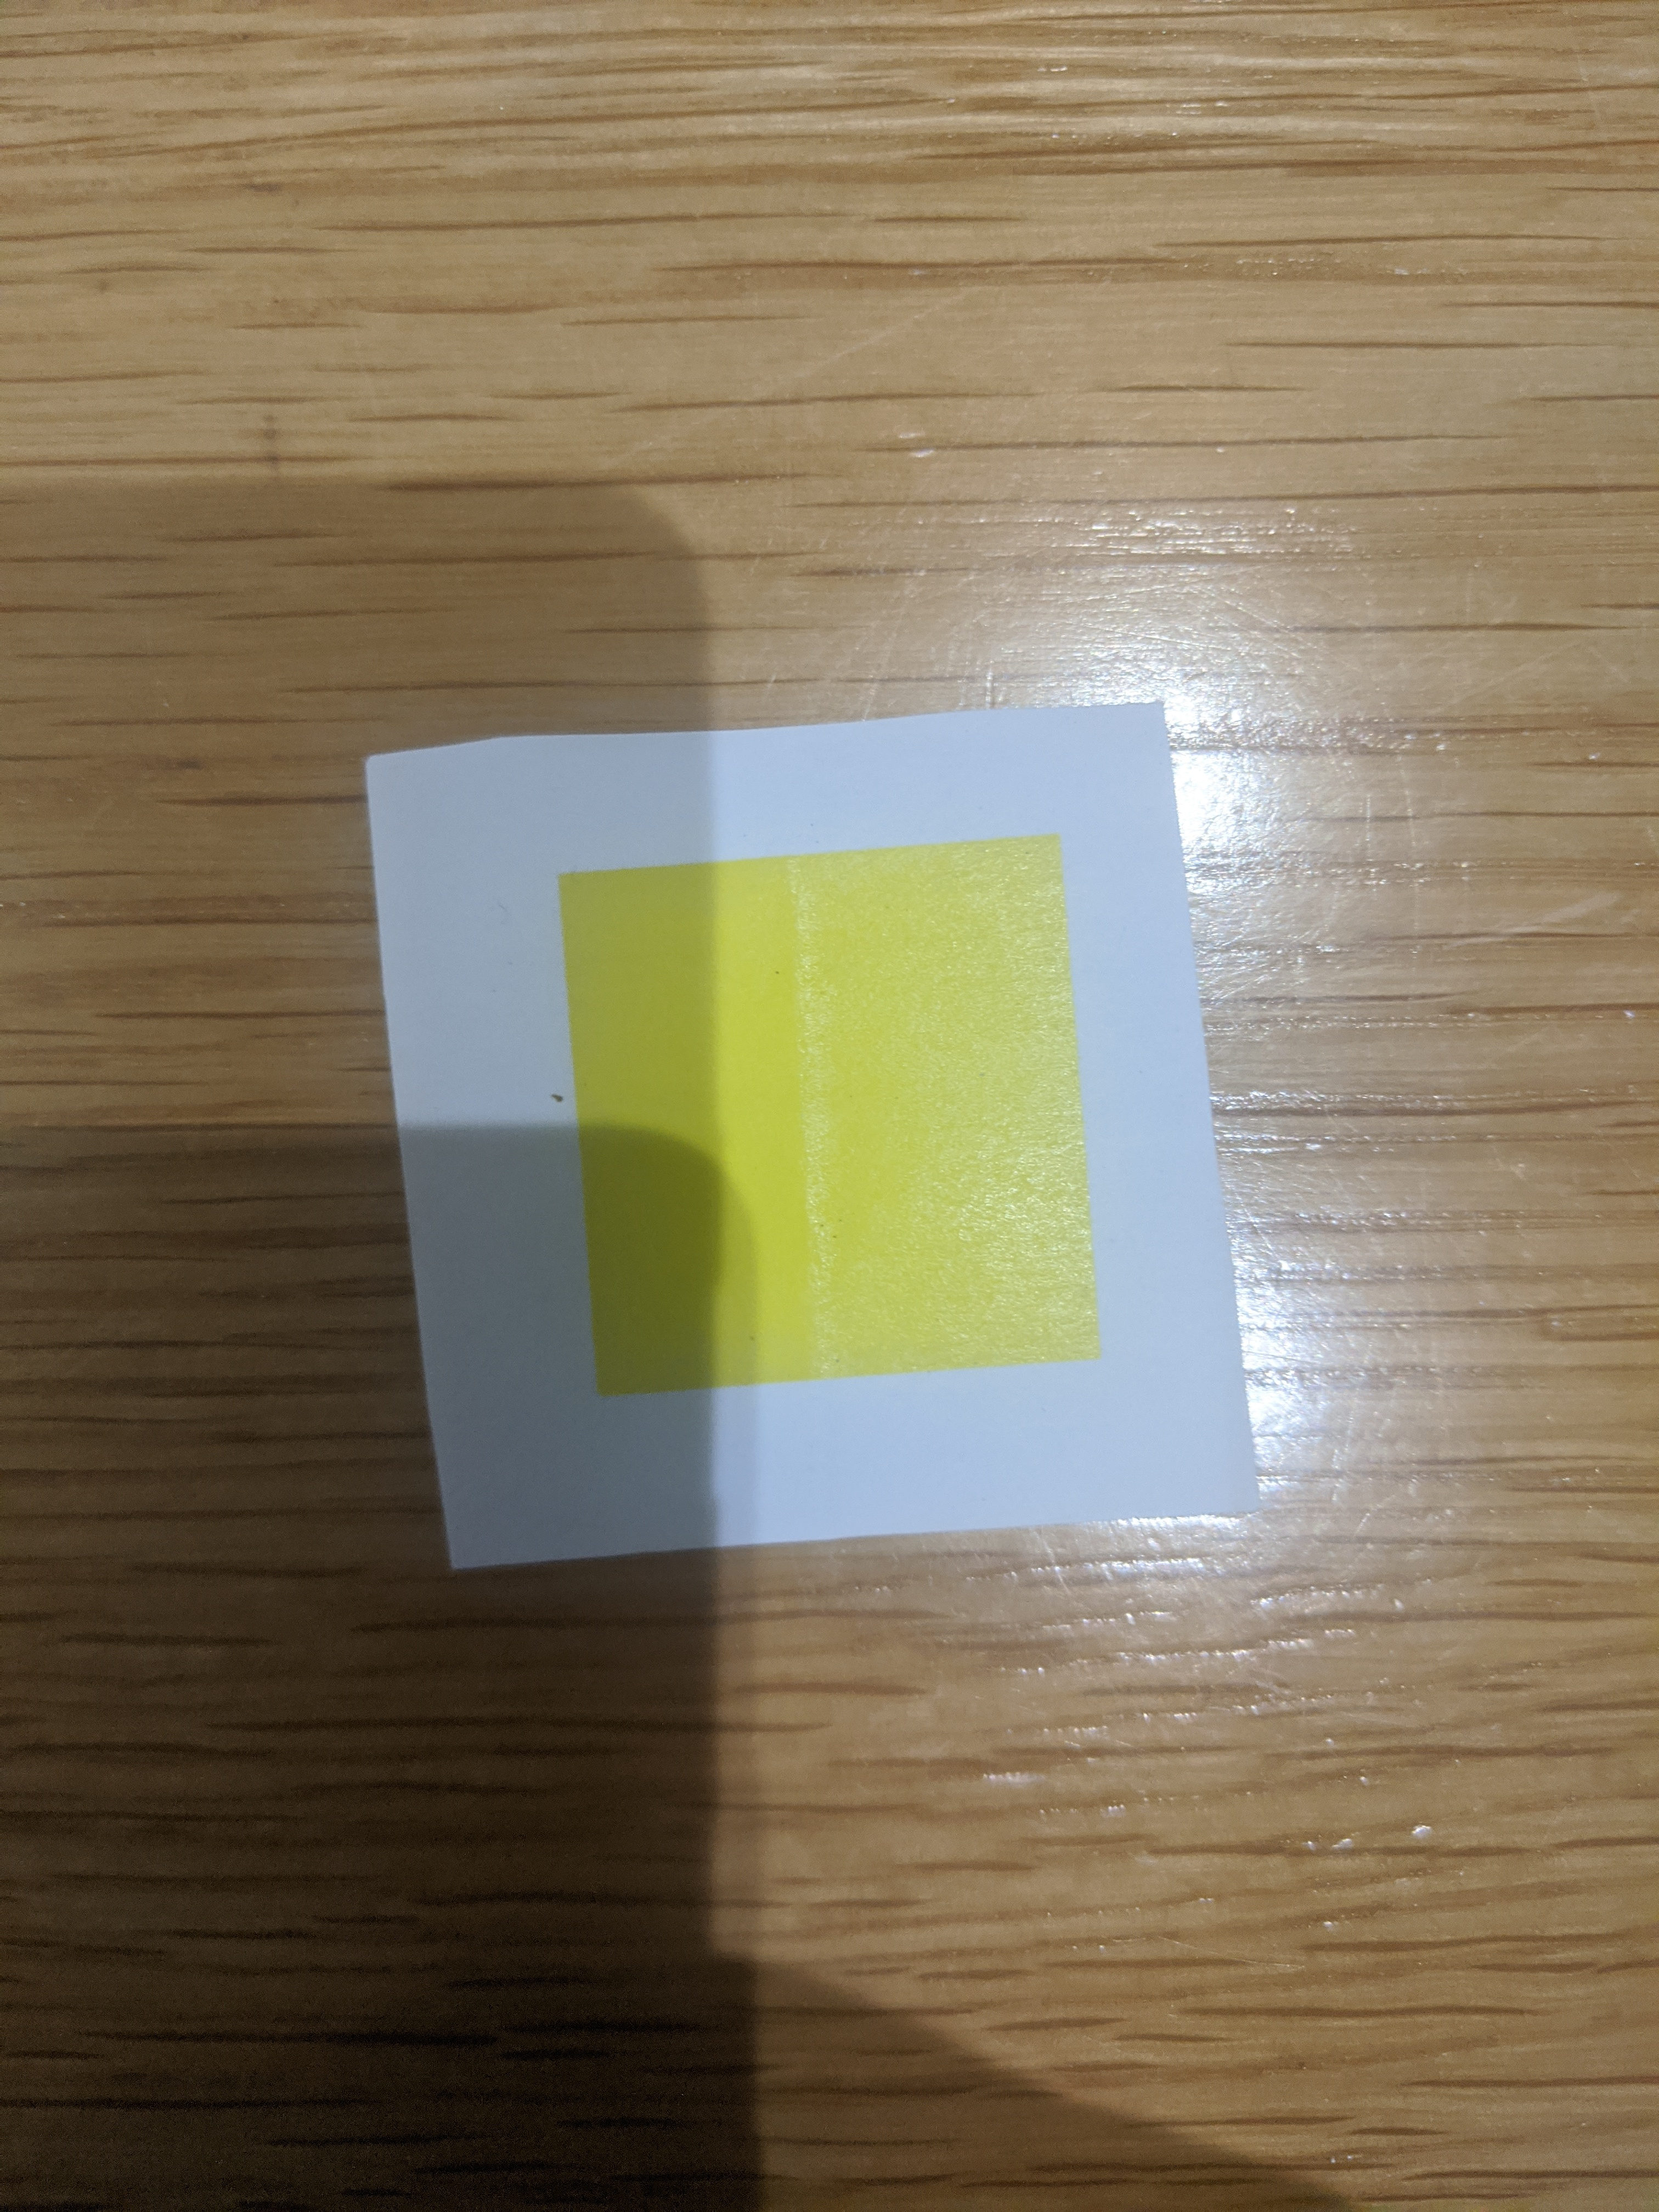yellow marker: (364, 698, 1277, 1573)
